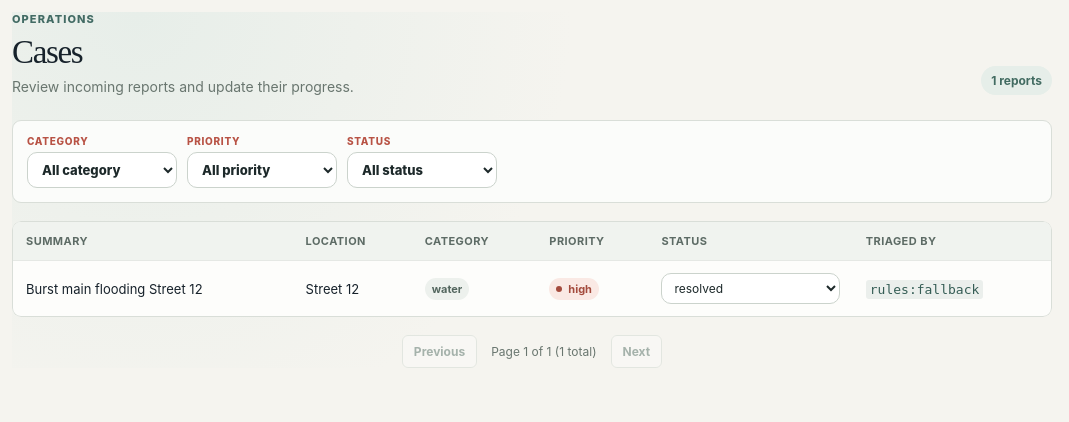
Scenario: Dashboard › surfaces the server's 409 message verbatim on an invalid transition
The width and height of the screenshot is (1069, 422).
Step 1. Select "open" in the dropdown showing "resolved" → (751, 288), box [662,273,840,304]
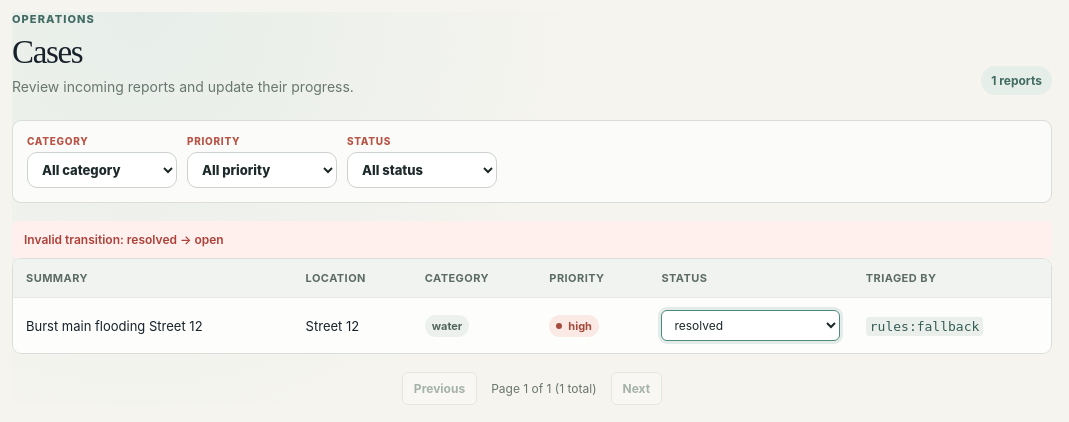
Check: the message reads "Invalid transition: resolved -> open", box [24,232,224,247]
